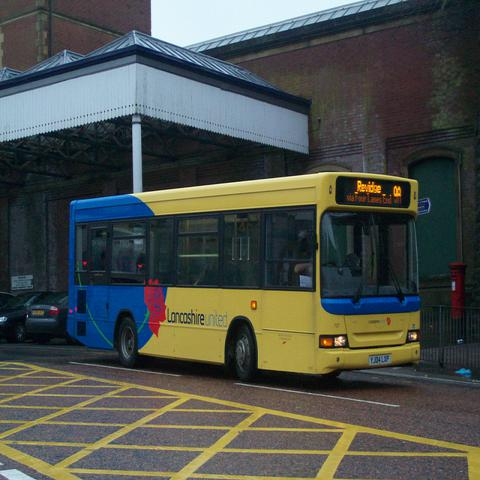bus: (63, 171, 422, 384)
car: (24, 290, 83, 348), (2, 292, 34, 343), (0, 290, 16, 308)
